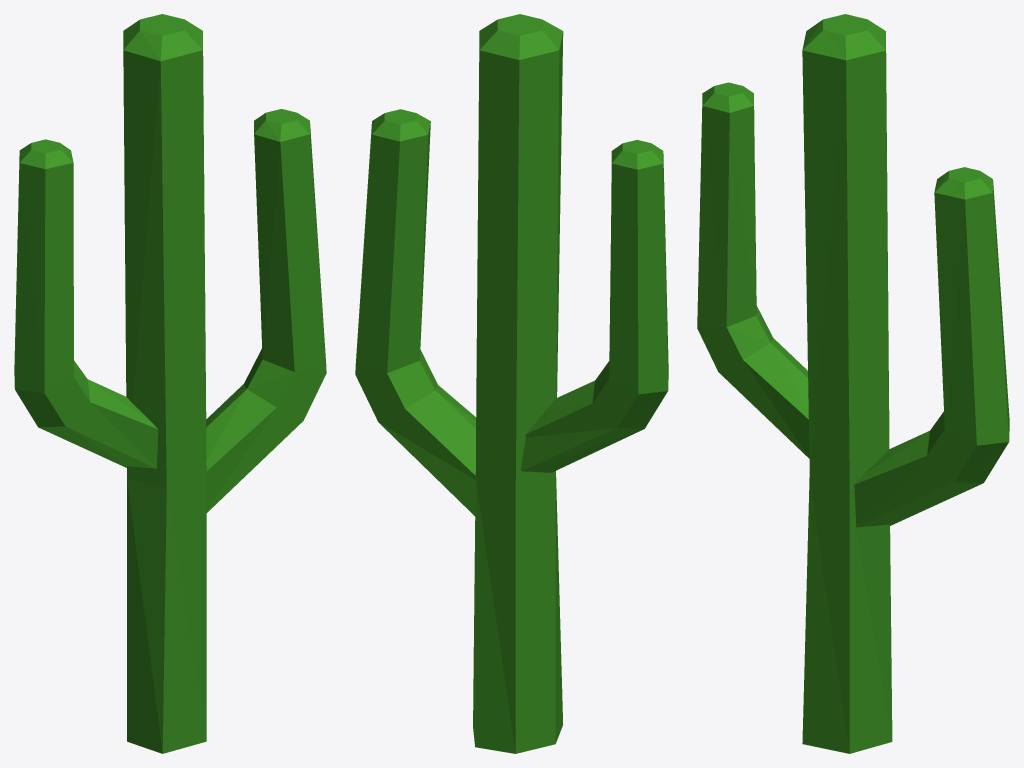
The model's file is west_tree03.FBX.
The picture shows the model from 3 angles, left to right: view 1: azimuth 30°, elevation 25°; view 2: azimuth 150°, elevation 25°; view 3: azimuth 330°, elevation 25°; orthographic projection.
Parts seen in each view (by area): view 1: west_tree03; view 2: west_tree03; view 3: west_tree03.
Boxes of the visible parts, box(x1,y1,x2,y2) form: west_tree03: box(14, 14, 326, 753); west_tree03: box(355, 14, 668, 753); west_tree03: box(697, 14, 1009, 753).
Size of the model in its own units: 516 by 1122 by 128.
